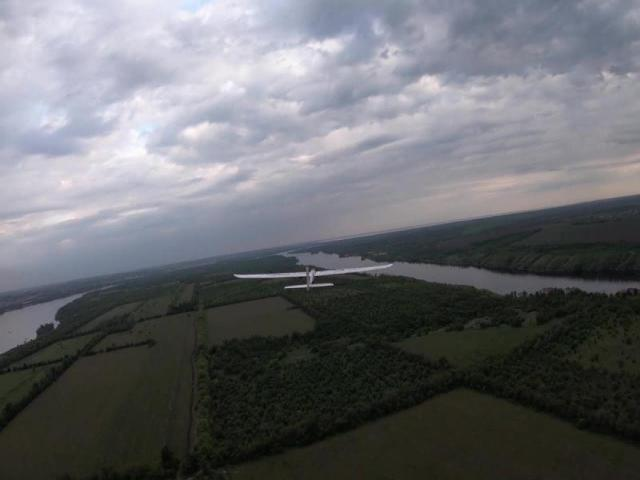hedef: (219, 252, 407, 304)
